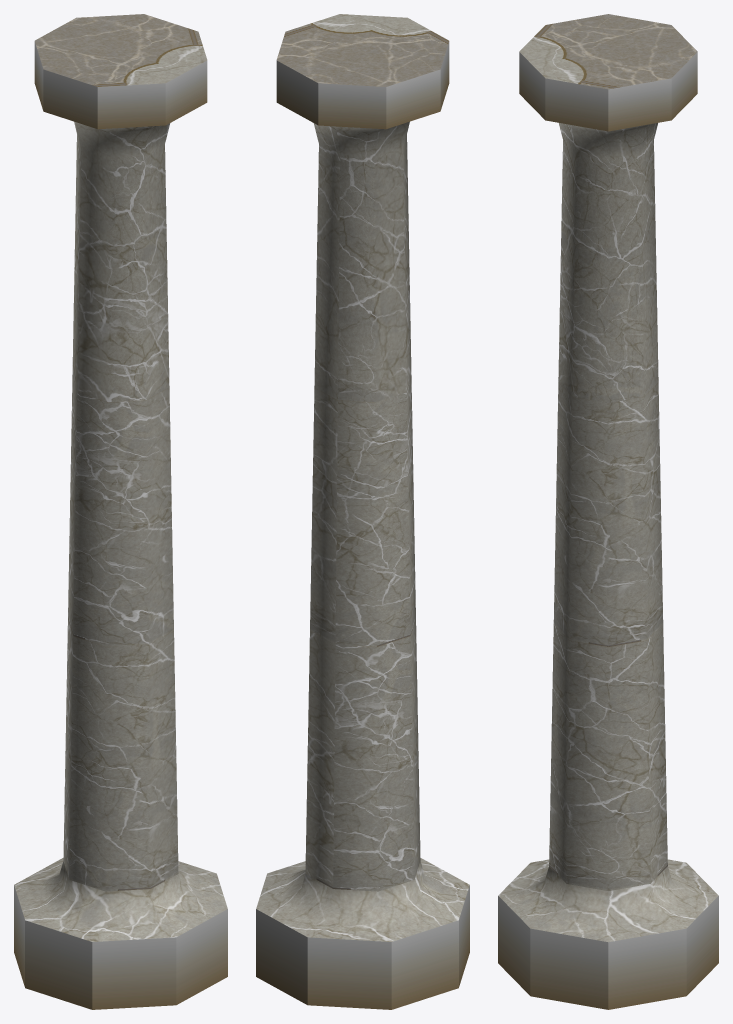
The model's file is Pillar.fbx.
The picture shows the model from 3 angles, left to right: view 1: azimuth 30°, elevation 25°; view 2: azimuth 150°, elevation 25°; view 3: azimuth 270°, elevation 25°; orthographic projection.
Visible parts, largest first — view 1: Pilars.003; view 2: Pilars.003; view 3: Pilars.003.
Part boxes in pixels (box(x1,y1,x2,y2)): Pilars.003: box(14, 14, 227, 1009); Pilars.003: box(256, 14, 469, 1009); Pilars.003: box(498, 14, 718, 1009).
Size of the model in its own units: 925 by 4218 by 925.
